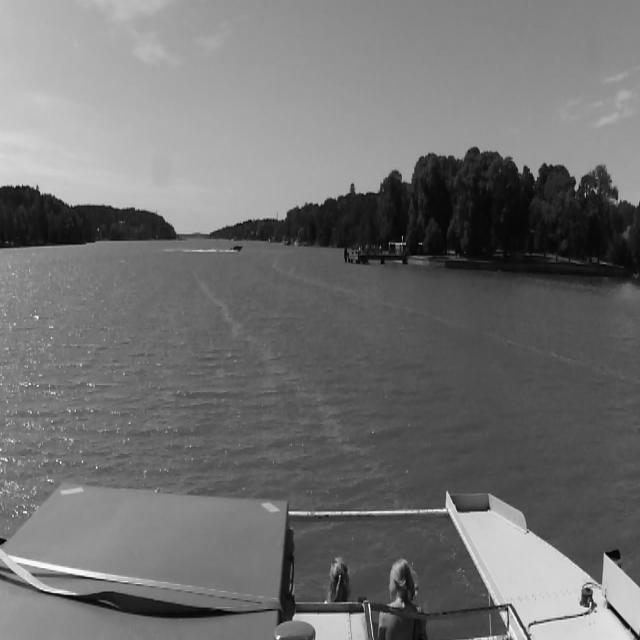ship: (229, 244, 242, 250)
